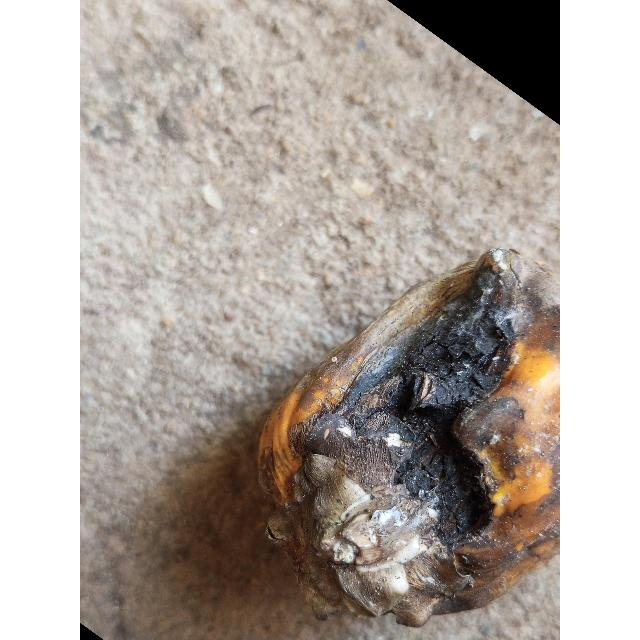damaged: (259, 253, 560, 629)
